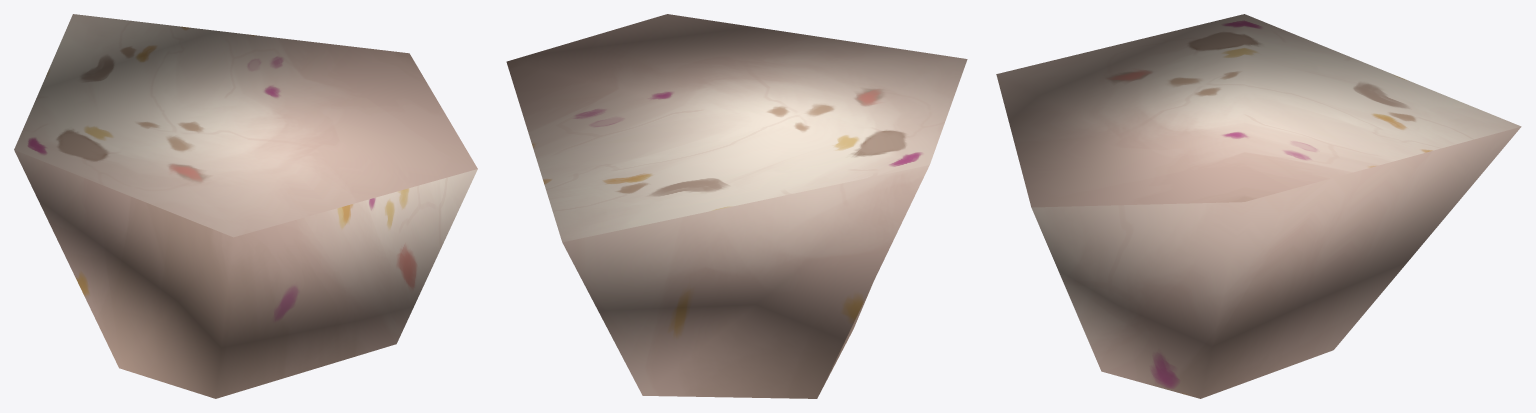
Rendered from BulletPiece 1.fbx.
3 renders of one model, left to right at view 1: azimuth 30°, elevation 25°; view 2: azimuth 150°, elevation 25°; view 3: azimuth 270°, elevation 25°, orthographic. The views are drawn at different scales.
Parts seen in each view (by area): view 1: BulletPieceMesh; view 2: BulletPieceMesh; view 3: BulletPieceMesh.
Part boxes in pixels (x1,y1,x2,y2): BulletPieceMesh: (14,14,477,398); BulletPieceMesh: (506,14,967,398); BulletPieceMesh: (996,14,1521,398).
Size of the model in its own units: 37.4 by 22.06 by 44.15.
